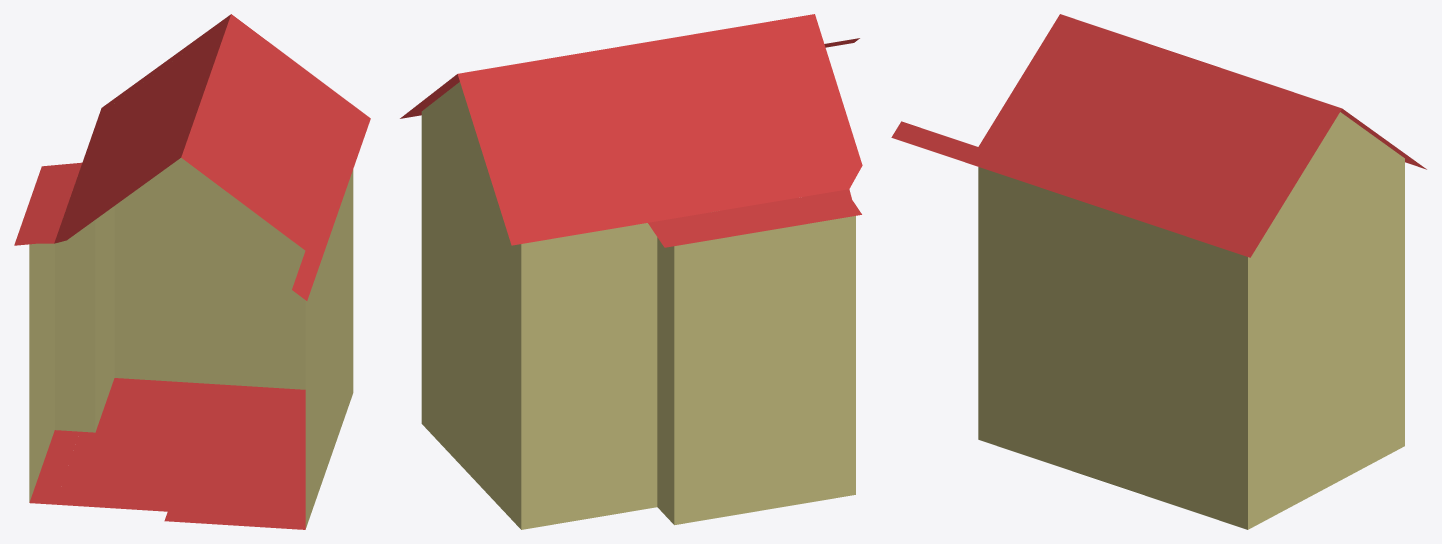
3 renders of one model, left to right at view 1: azimuth 30°, elevation 25°; view 2: azimuth 150°, elevation 25°; view 3: azimuth 270°, elevation 25°, orthographic. The views are drawn at different scales.
Size of the model in its own units: 14.42 by 16.59 by 13.04.
